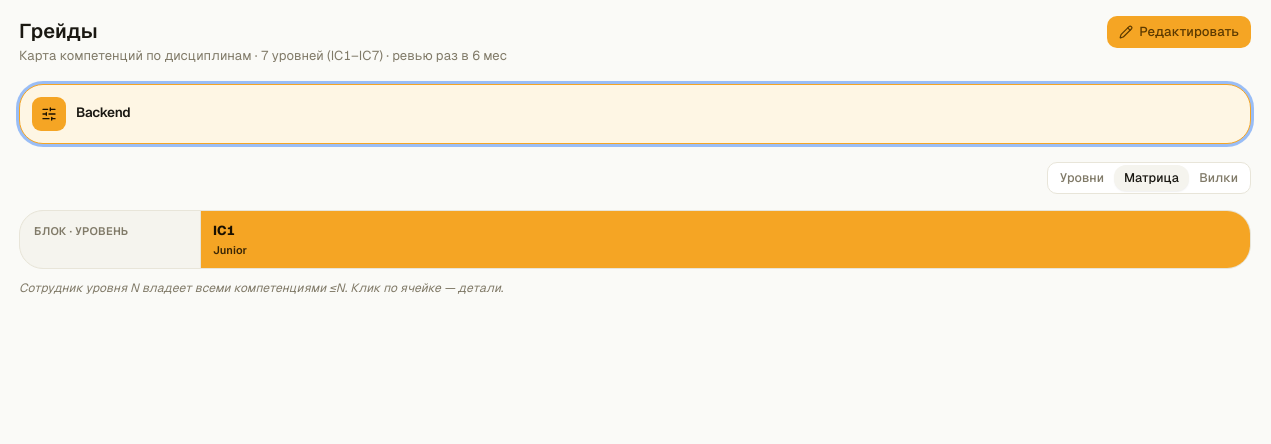
it: GradesClient edit gating › enters edit mode and hides the Вилки tab
The image size is (1271, 444).
Click the button "Редактировать": (1179, 32) [1107, 16, 1251, 48]
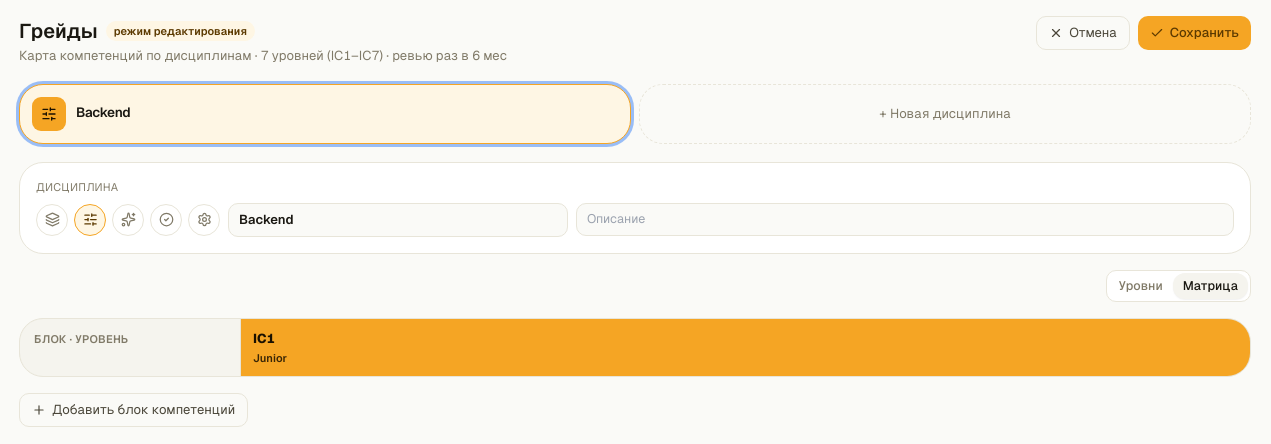
Check: the text "режим редактирования" is shown, box [106, 21, 255, 41]
Check: the button "Вилки" is gone
